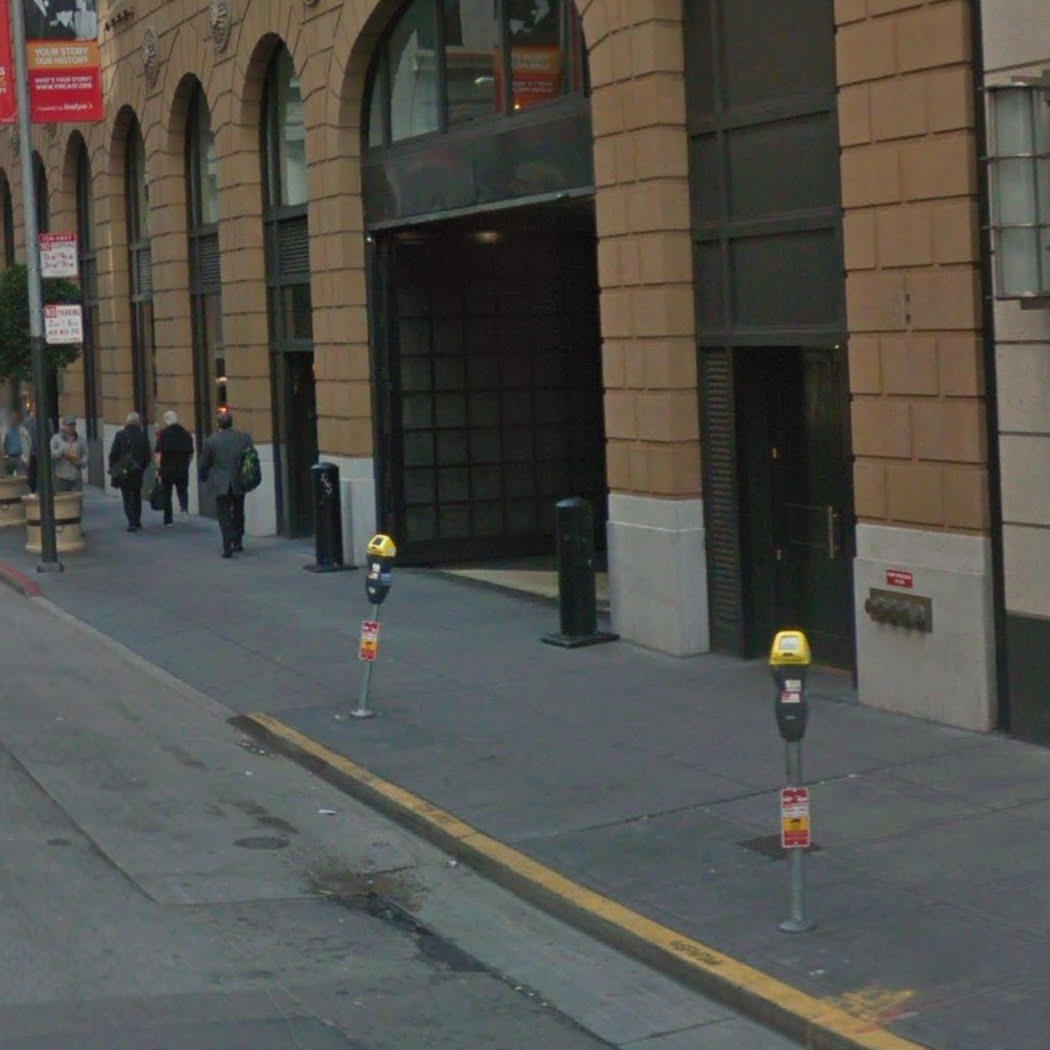No Parking: (43, 304, 85, 344)
